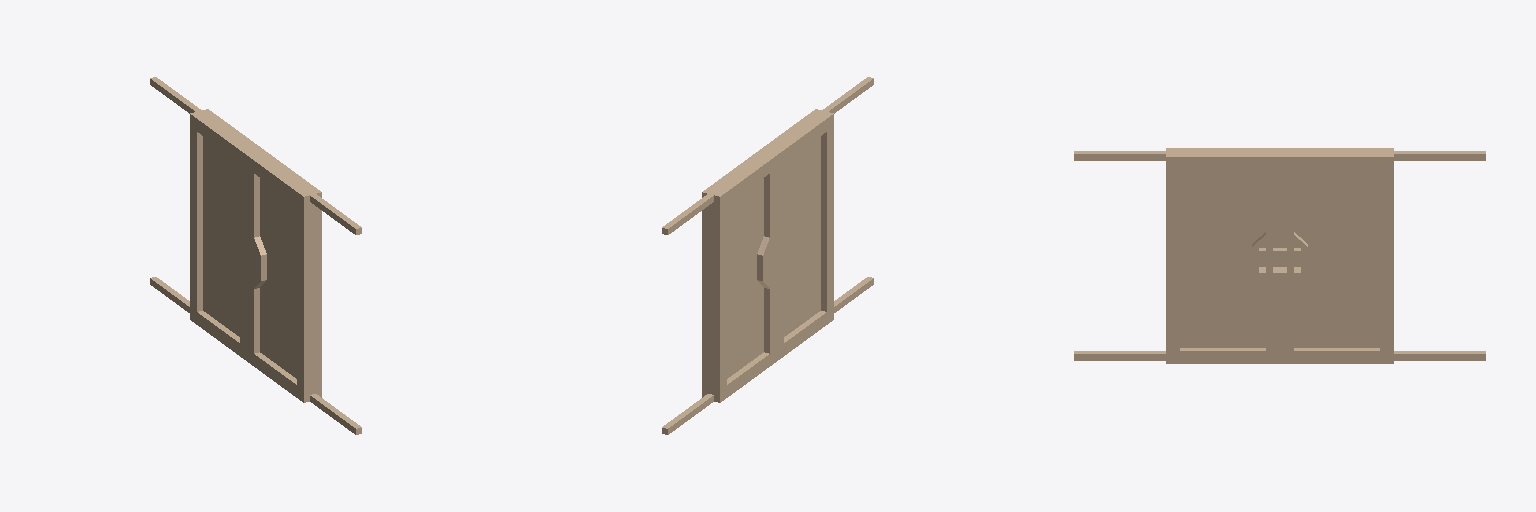
File: qe_sliding_door.obj
3 views of the same model, side by side, from view 1: azimuth 30°, elevation 25°; view 2: azimuth 150°, elevation 25°; view 3: azimuth 270°, elevation 25° (orthographic).
Visible parts, largest first — view 1: leftDoor, rightDoor, frame; view 2: rightDoor, leftDoor, frame; view 3: leftDoor, rightDoor, frame.
Part boxes in pixels (left/top/right/bottom): leftDoor: left=247, top=151, right=321, bottom=402; rightDoor: left=190, top=109, right=264, bottom=360; frame: left=150, top=77, right=361, bottom=434; rightDoor: left=702, top=151, right=776, bottom=402; leftDoor: left=759, top=109, right=833, bottom=360; frame: left=662, top=77, right=873, bottom=434; leftDoor: left=1166, top=148, right=1300, bottom=363; rightDoor: left=1280, top=148, right=1393, bottom=363; frame: left=1074, top=151, right=1485, bottom=360.
Bounding box in the file's own units: 0.1875 × 2 × 3.62.